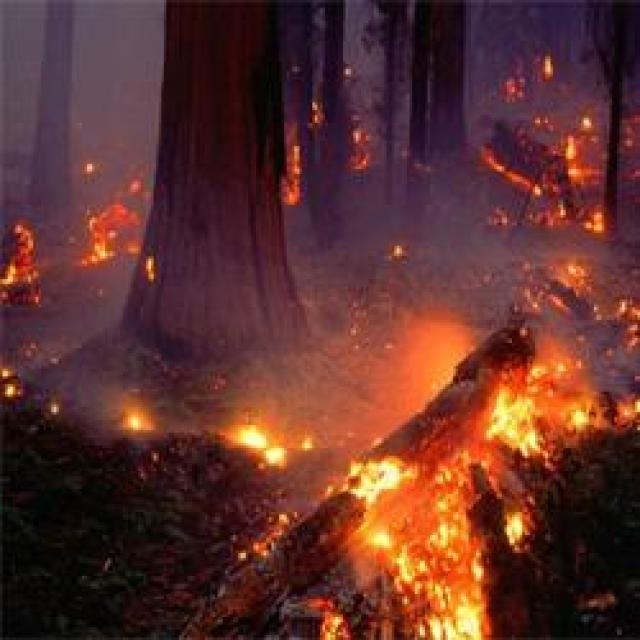fire: (335, 344, 585, 640), (480, 46, 640, 250), (85, 403, 362, 498), (0, 170, 151, 305)
